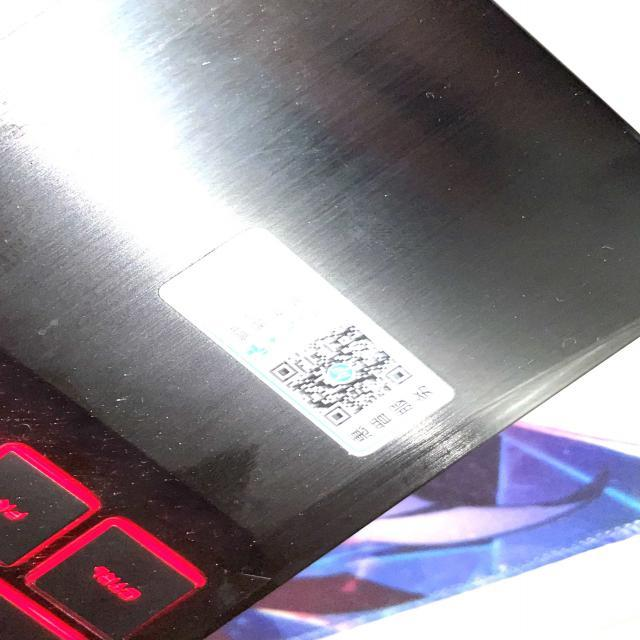qr_code: (268, 323, 414, 426)
